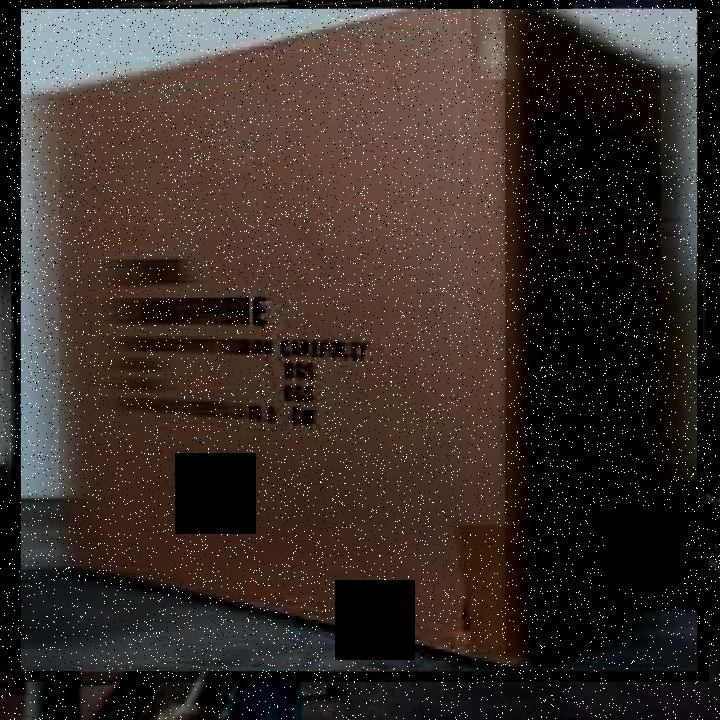box: (11, 0, 709, 682)
